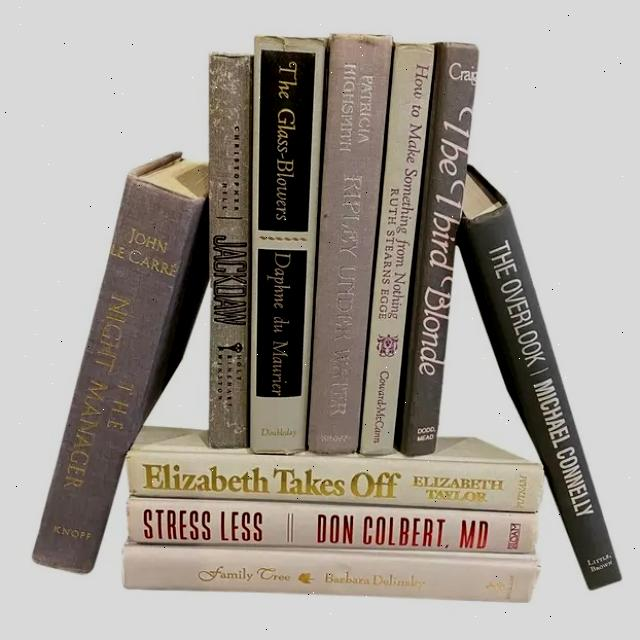book: (30, 178, 206, 575), (462, 202, 623, 589), (305, 27, 392, 455), (244, 33, 330, 451), (403, 42, 479, 446), (363, 44, 431, 451), (129, 498, 541, 550), (125, 457, 540, 506), (210, 54, 250, 446)
